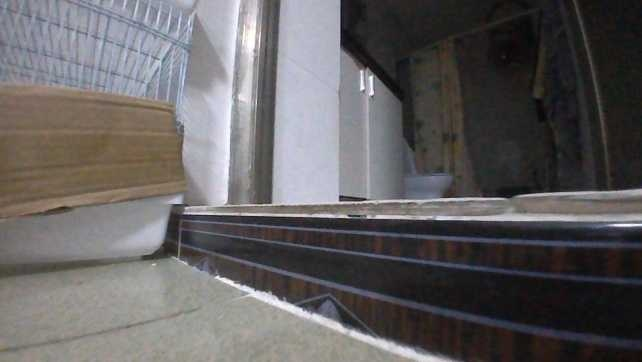door_sill: (166, 182, 641, 360)
toilet: (401, 135, 454, 196)
